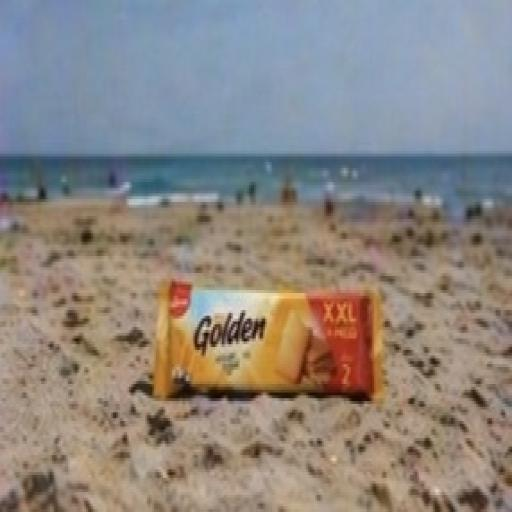golden: (119, 243, 437, 449)
